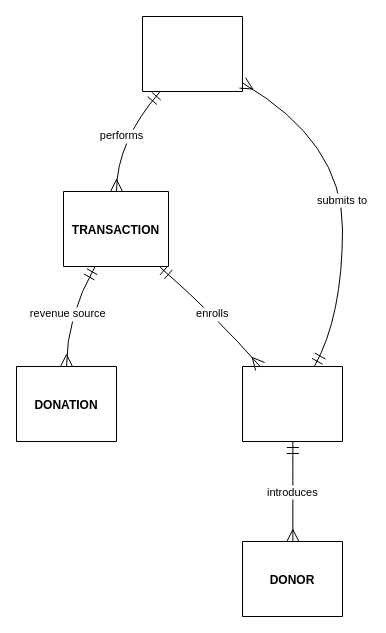
Image size: 386x633. Some labels were removed from this diagram. Each missing label, with the centre of its shape:
"PARTICIPANT" belongs at (192,54).
"RECRUIT" belongs at (292,404).
